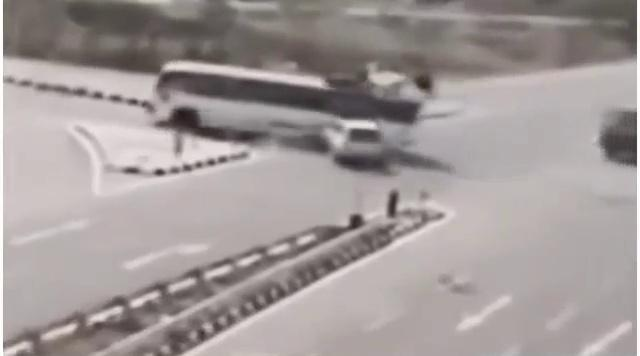car-accident: (150, 58, 431, 166)
